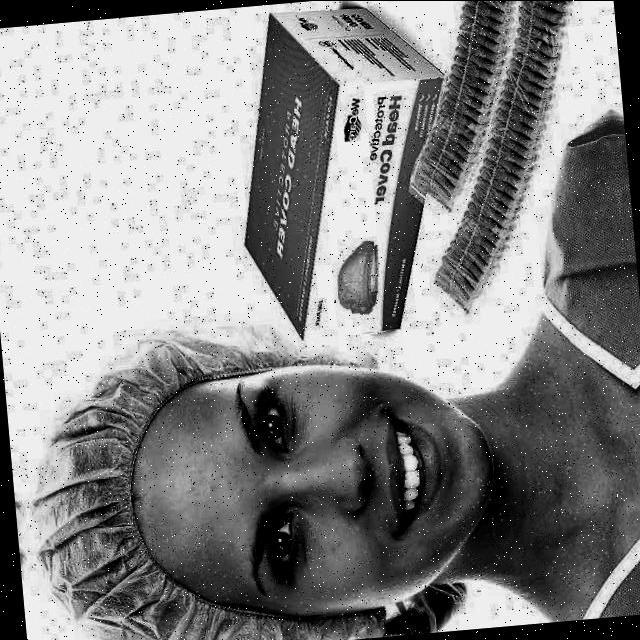gloves: (23, 329, 169, 640)
no_hairnet: (268, 378, 478, 528)
